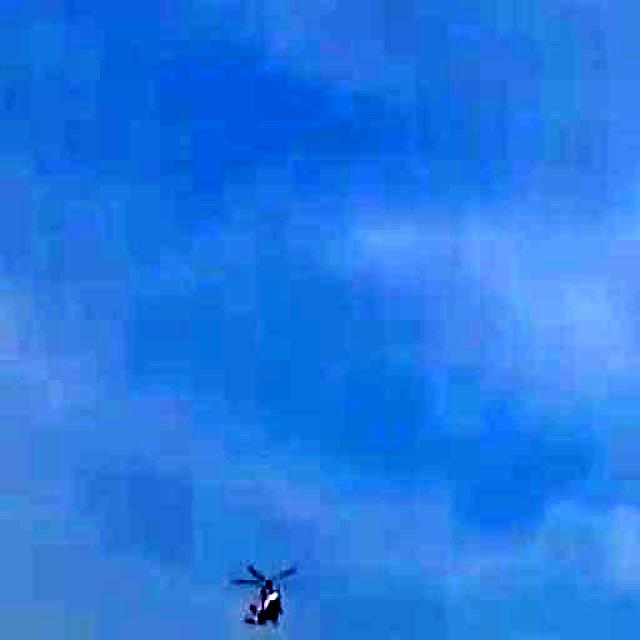drone: (221, 555, 308, 631)
